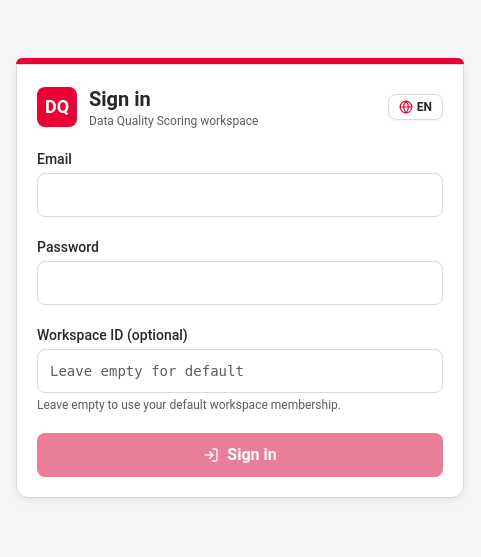
Test: login lockout › keeps the generic message for 401
Type "alice@example.com" into the field labelled "Email" at [240, 195], box [37,173,443,217]
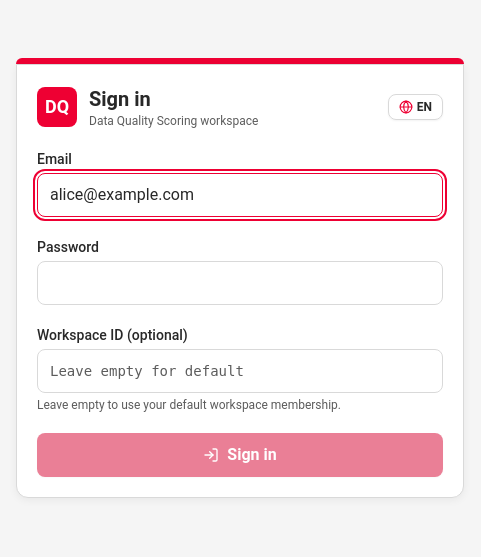
Type "wrong" into the password field labelled "Password" at [240, 283], box [37,261,443,305]
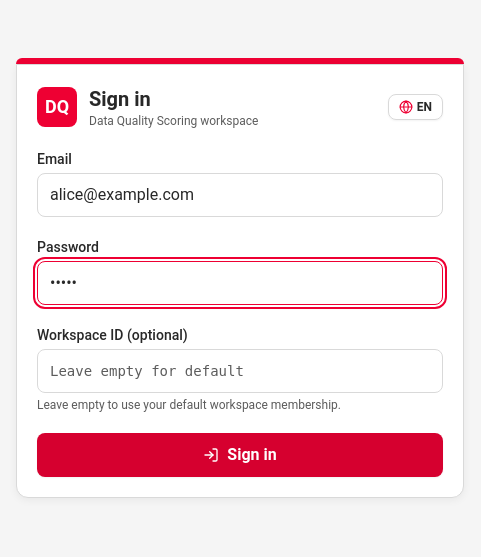
Click the button "Sign in" at [240, 455], box [37,433,443,477]
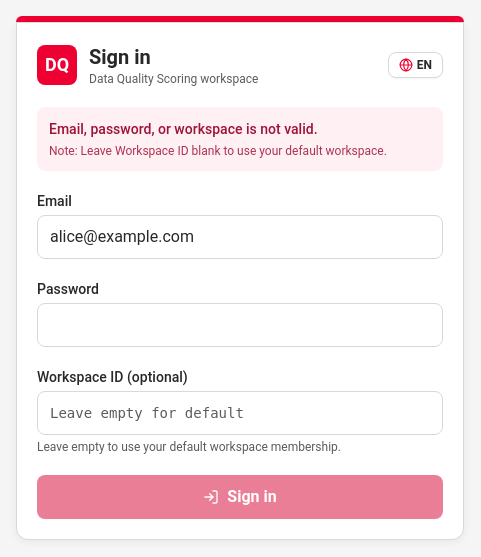
Expected: the text "Email, password, or workspace is not valid." is shown, [49,121,318,137]
